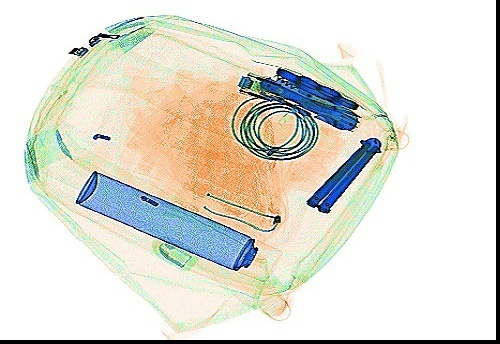knife: (304, 132, 383, 216), (252, 74, 362, 130)
pressure: (71, 170, 282, 281)
